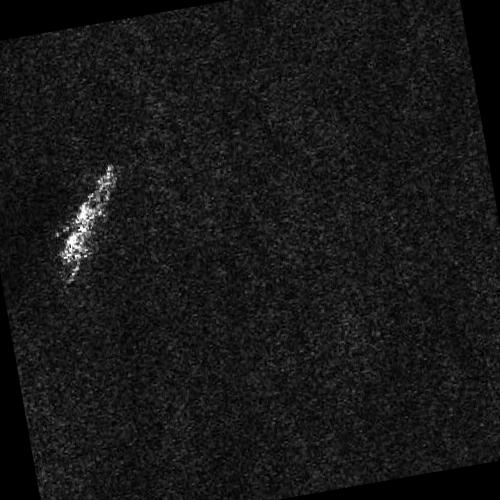ship: (59, 162, 116, 268)
